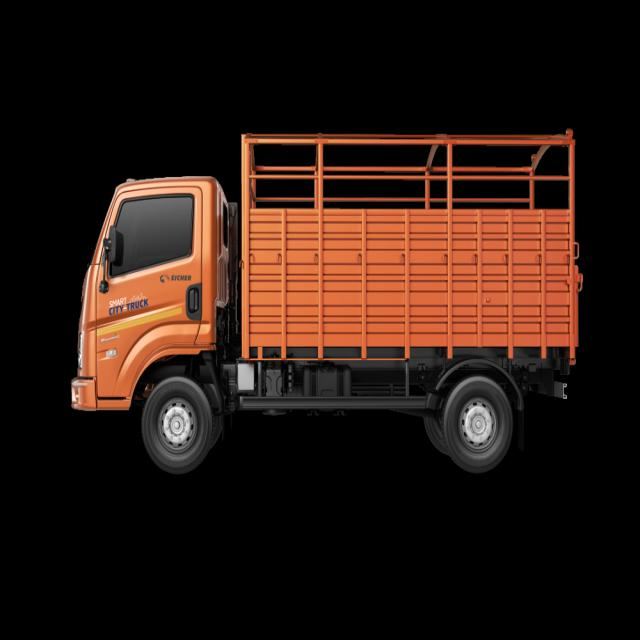truck: (71, 131, 581, 473)
